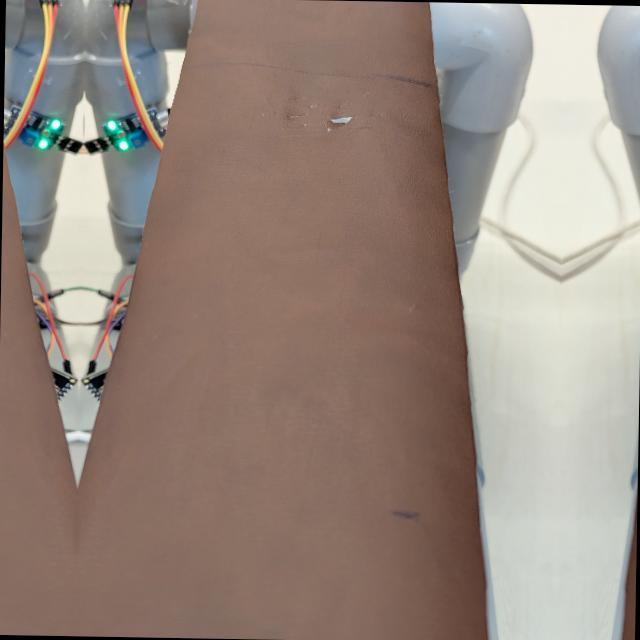belt_crack: (270, 69, 408, 140)
